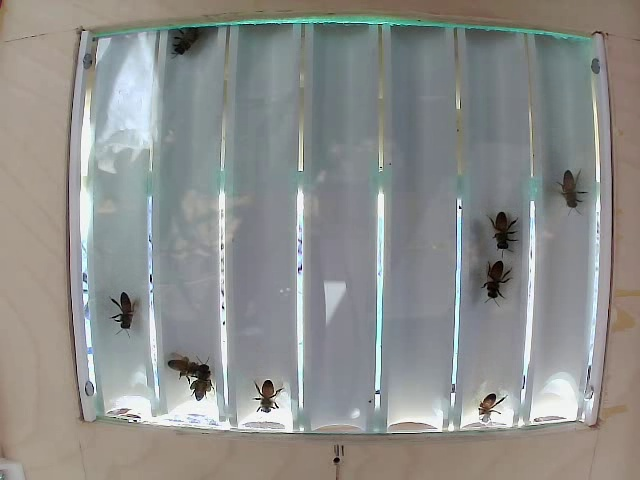bee: (246, 374, 285, 419), (483, 259, 512, 316), (185, 353, 214, 398), (109, 290, 137, 335), (166, 342, 198, 377), (490, 215, 513, 261), (558, 169, 582, 212)
